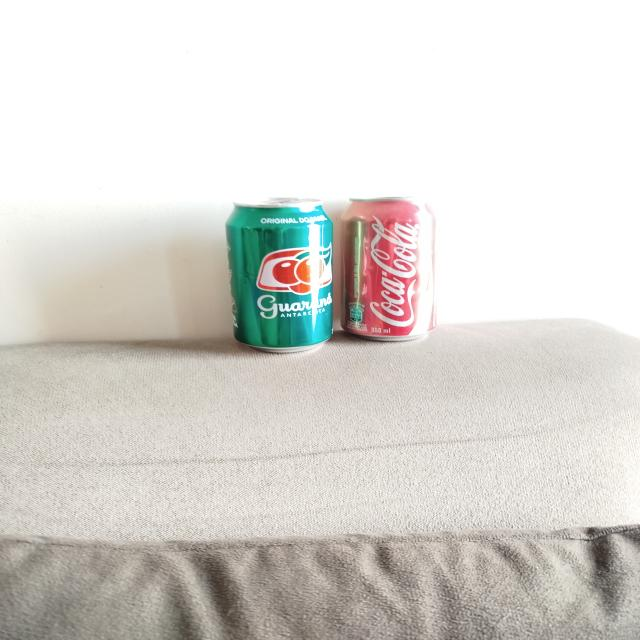Coca Cola: (341, 196, 438, 341)
Guarana: (228, 197, 336, 352)
